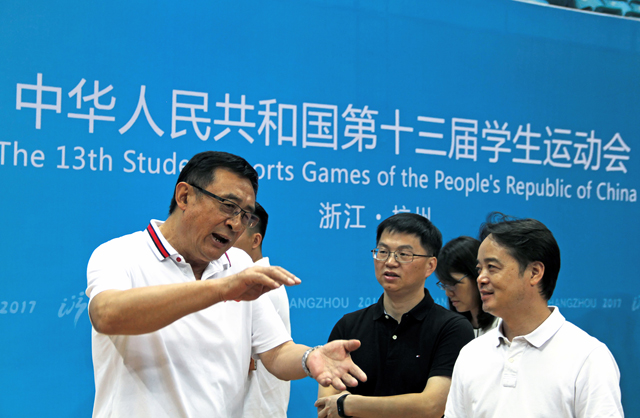noWear: (171, 171, 259, 261), (476, 244, 547, 318), (372, 233, 434, 301), (235, 206, 269, 267), (441, 268, 481, 317)
